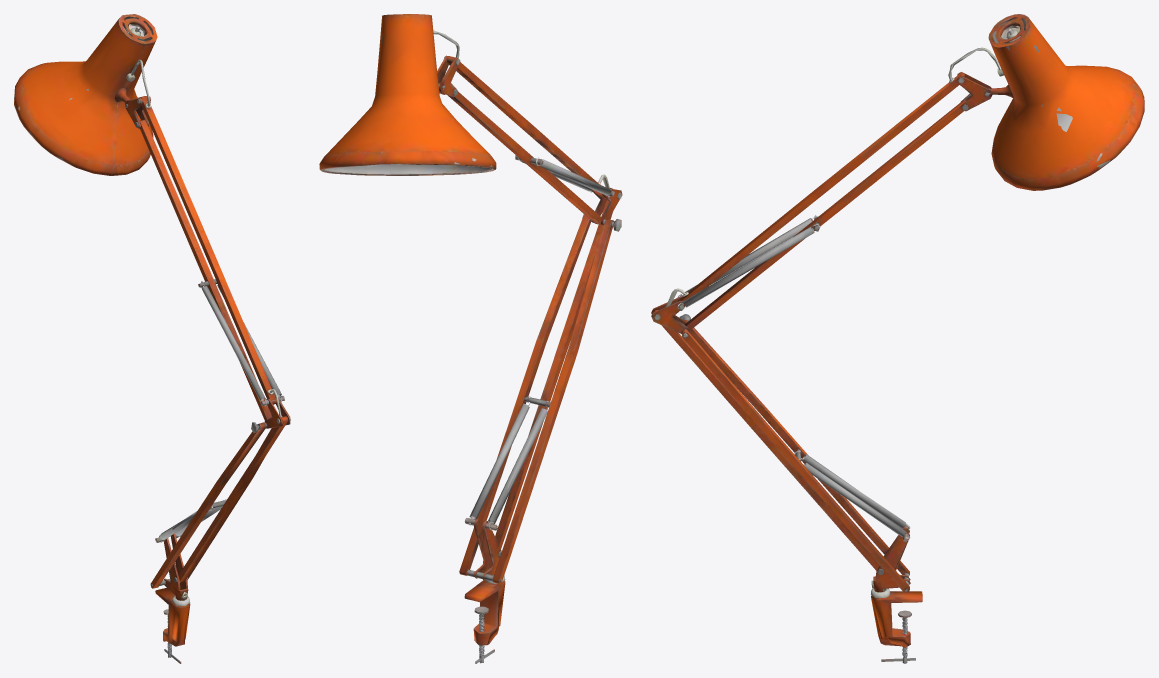
The model's file is desk_lamp_arm_01_1k.glb.
The picture shows the model from 3 angles, left to right: view 1: azimuth 30°, elevation 25°; view 2: azimuth 150°, elevation 25°; view 3: azimuth 270°, elevation 25°; orthographic projection. The views are drawn at different scales.
Visible parts, largest first — view 1: desk_lamp_arm_01; view 2: desk_lamp_arm_01; view 3: desk_lamp_arm_01.
Part boxes in pixels (x1,y1,x2,y2): desk_lamp_arm_01: (14, 14, 290, 663); desk_lamp_arm_01: (319, 14, 622, 663); desk_lamp_arm_01: (651, 14, 1144, 663).
Size of the model in its own units: 0.2017 by 0.8926 by 0.6135.
2 materials, 2 textured.
